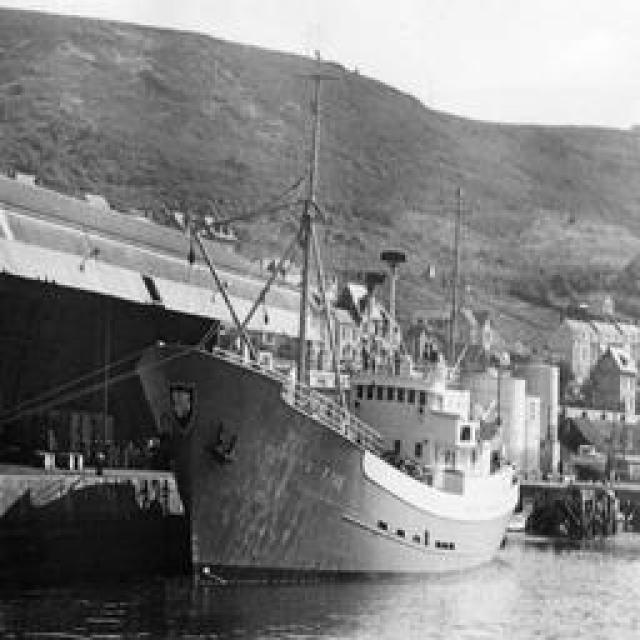Ship: (133, 198, 518, 586)
